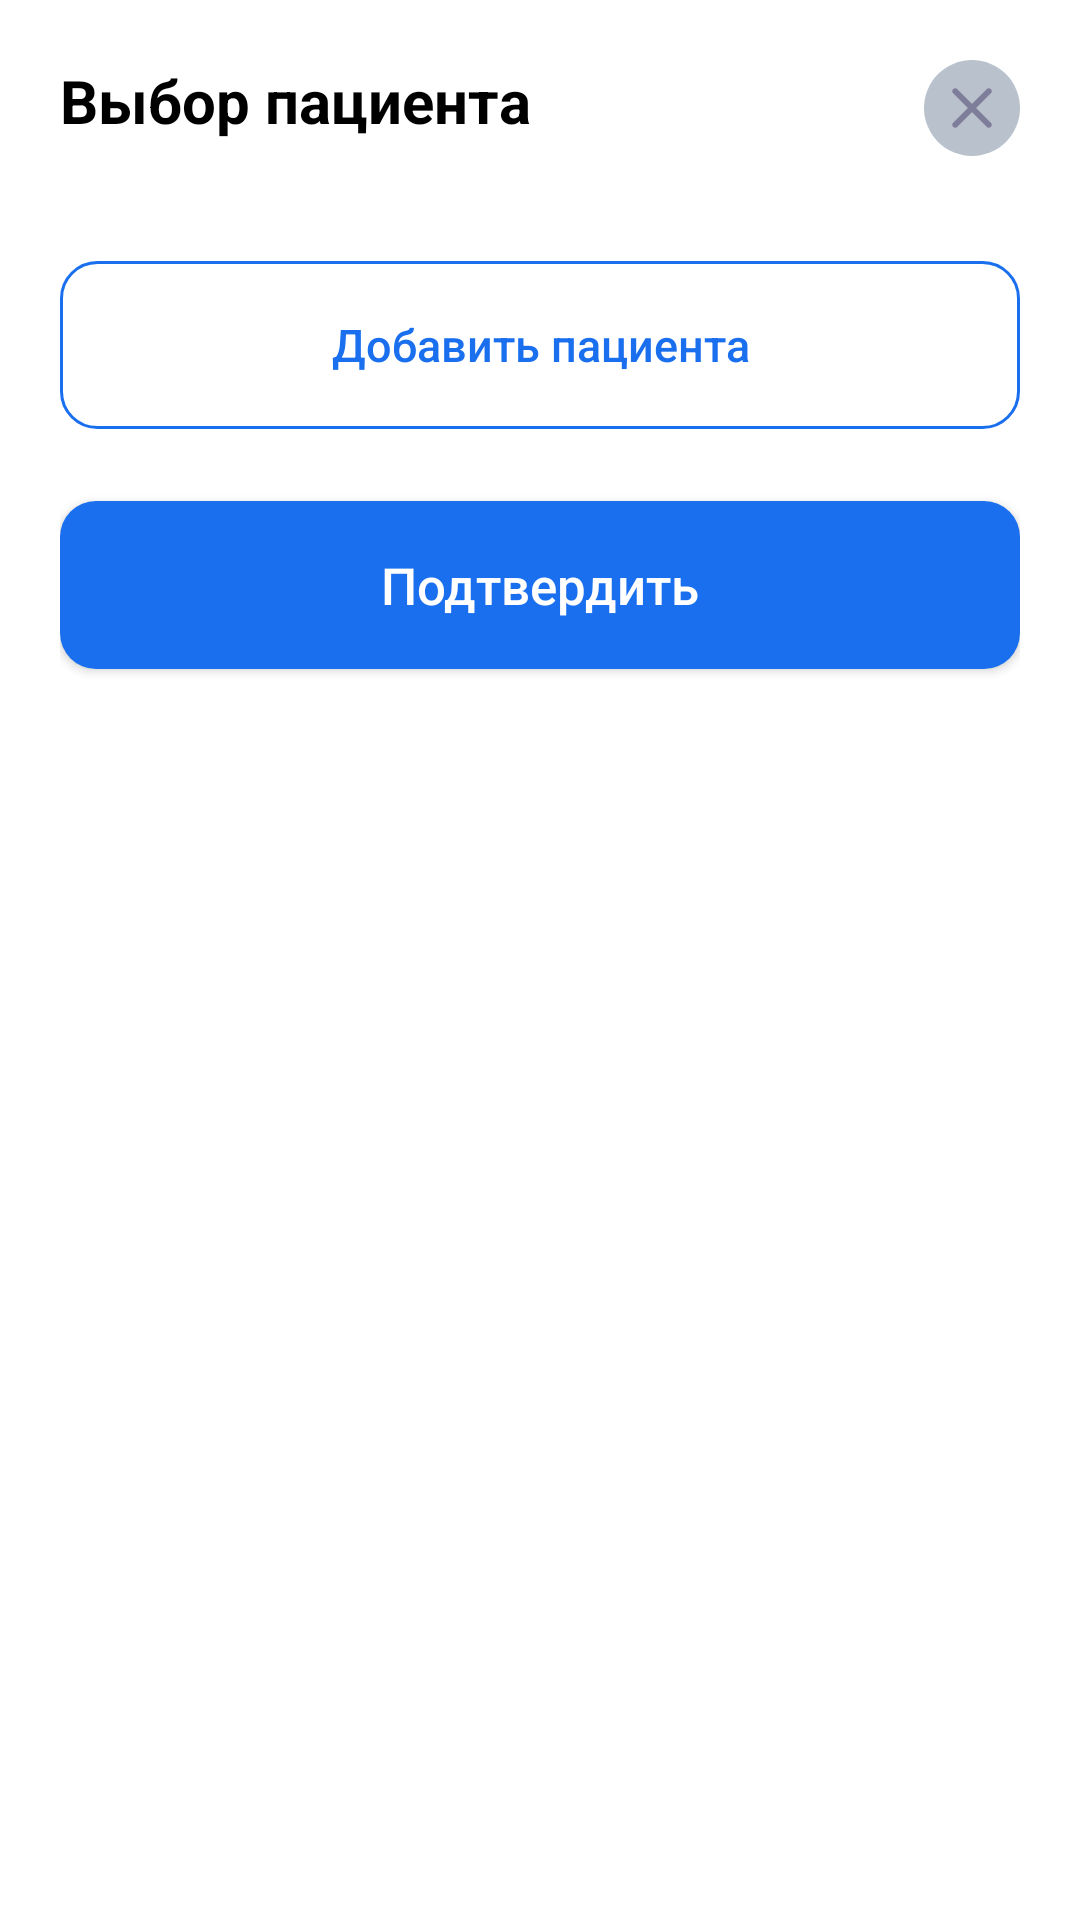

Icon bounding boxes for this 1080×1920 phone screenshot, format (x1, y1, x2, y2):
close: (924, 60, 1020, 156)
